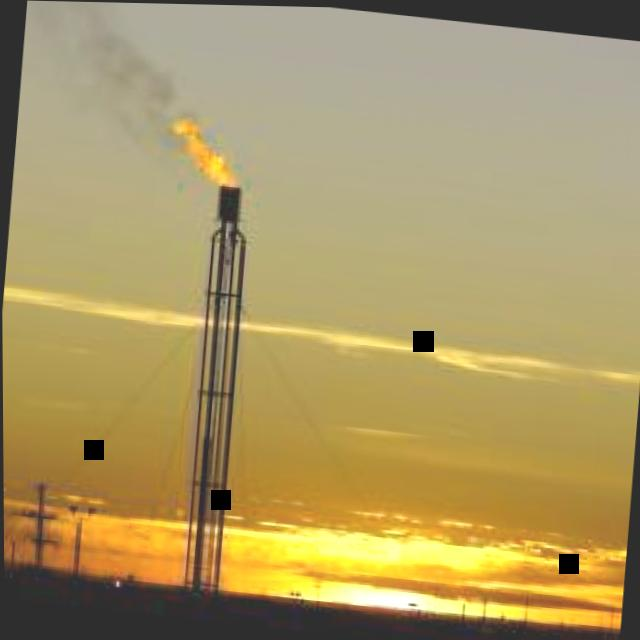fire: (174, 115, 241, 186)
smoke: (21, 0, 198, 148)
